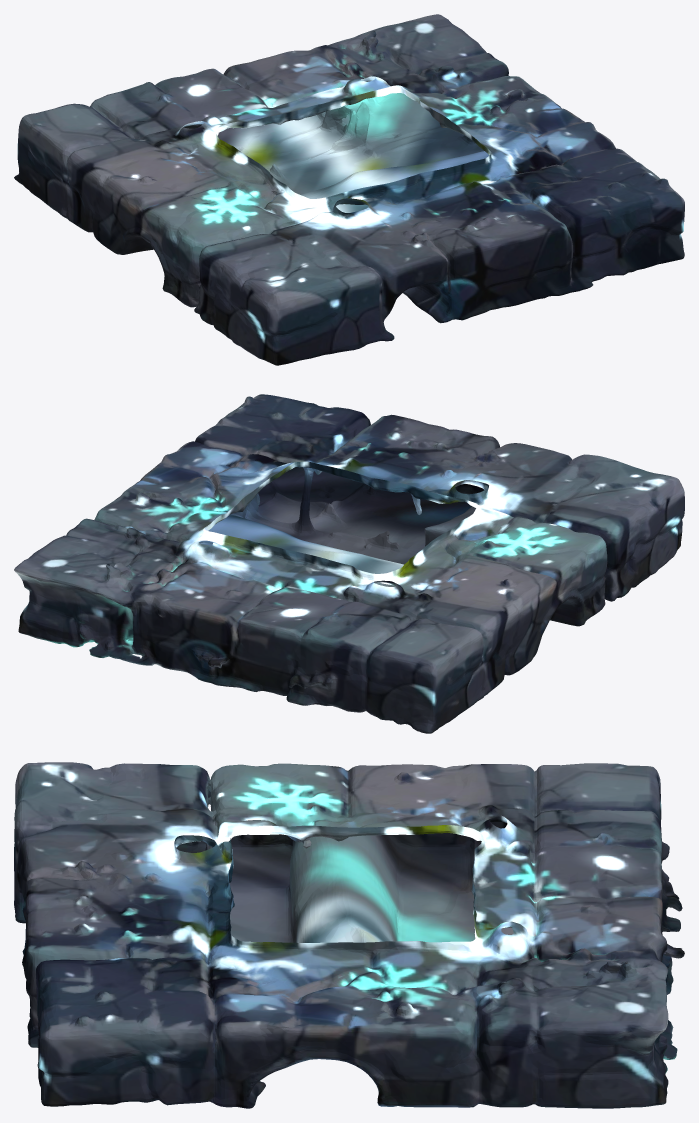
Rendered from rime_plate.glb.
3 renders of one model, top to bottom at view 1: azimuth 30°, elevation 25°; view 2: azimuth 150°, elevation 25°; view 3: azimuth 270°, elevation 25°, orthographic. The views are drawn at different scales.
Parts seen in each view (by area): view 1: rime_plate; view 2: rime_plate; view 3: rime_plate.
Boxes of the visible parts, x1,y1,x2,y2 form: rime_plate: (14,14,684,365); rime_plate: (14,394,684,733); rime_plate: (14,762,684,1108).
Size of the model in its own units: 1.86 by 0.3321 by 2.
Materials: 1 (1 with a texture image).
